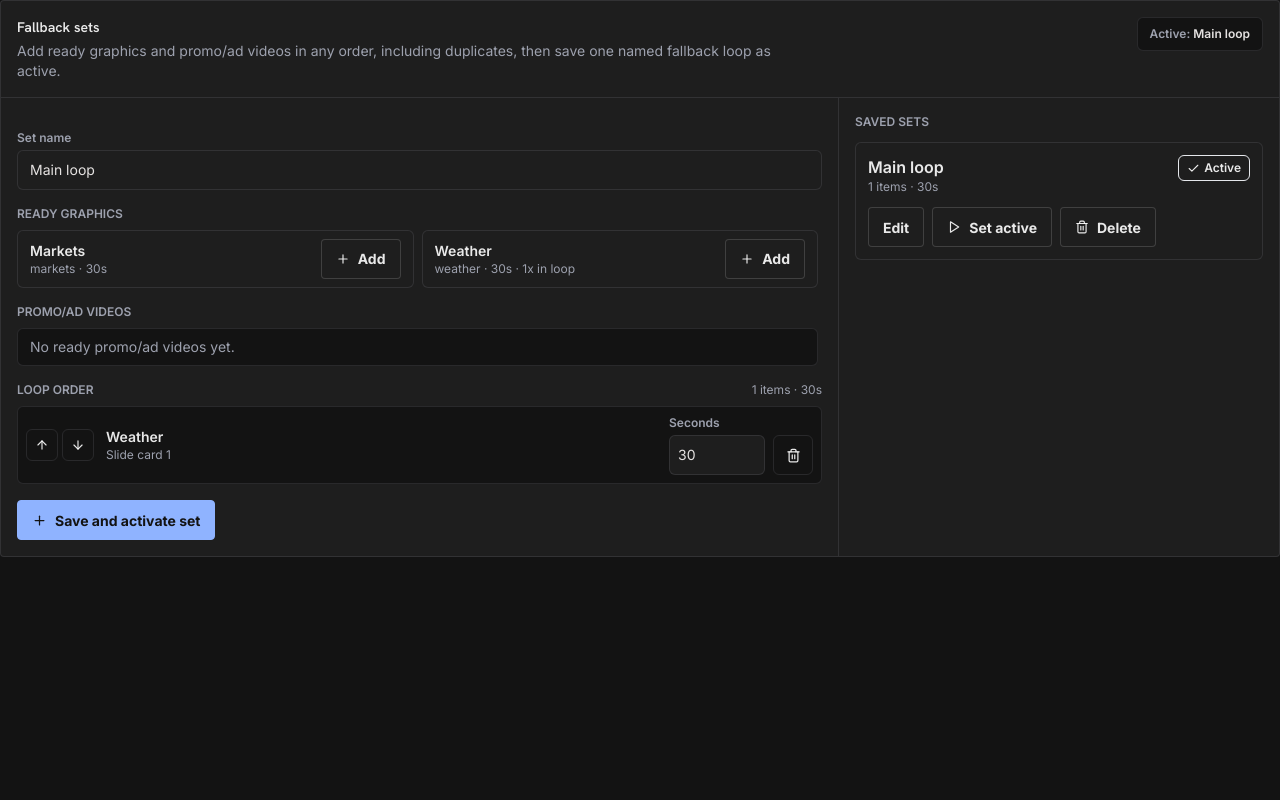
Test case: FallbackSetsPanel › allows adding the same slide multiple times to one loop
Click the button with aria-label "Add Markets to fallback loop" at [361, 259], box [321, 239, 400, 279]
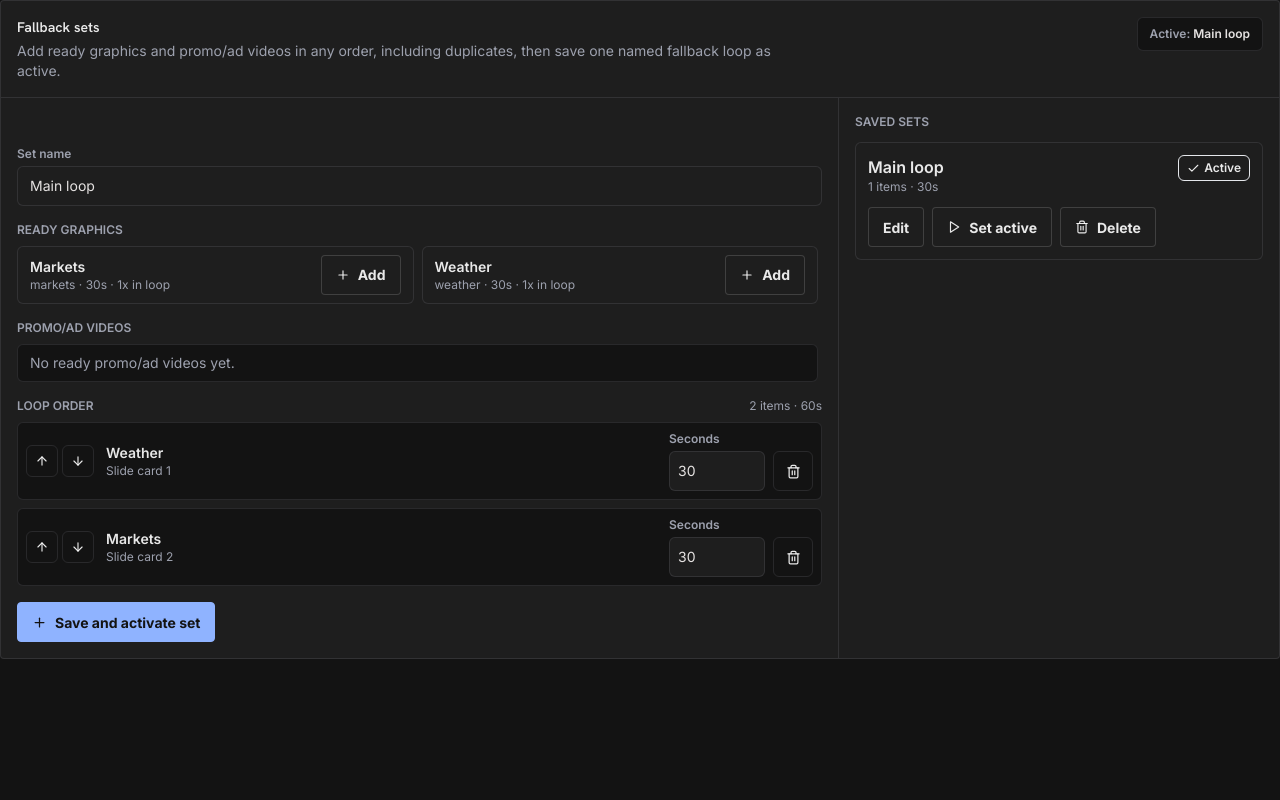
Click the button with aria-label "Add Markets to fallback loop" at [361, 275], box [321, 255, 400, 295]
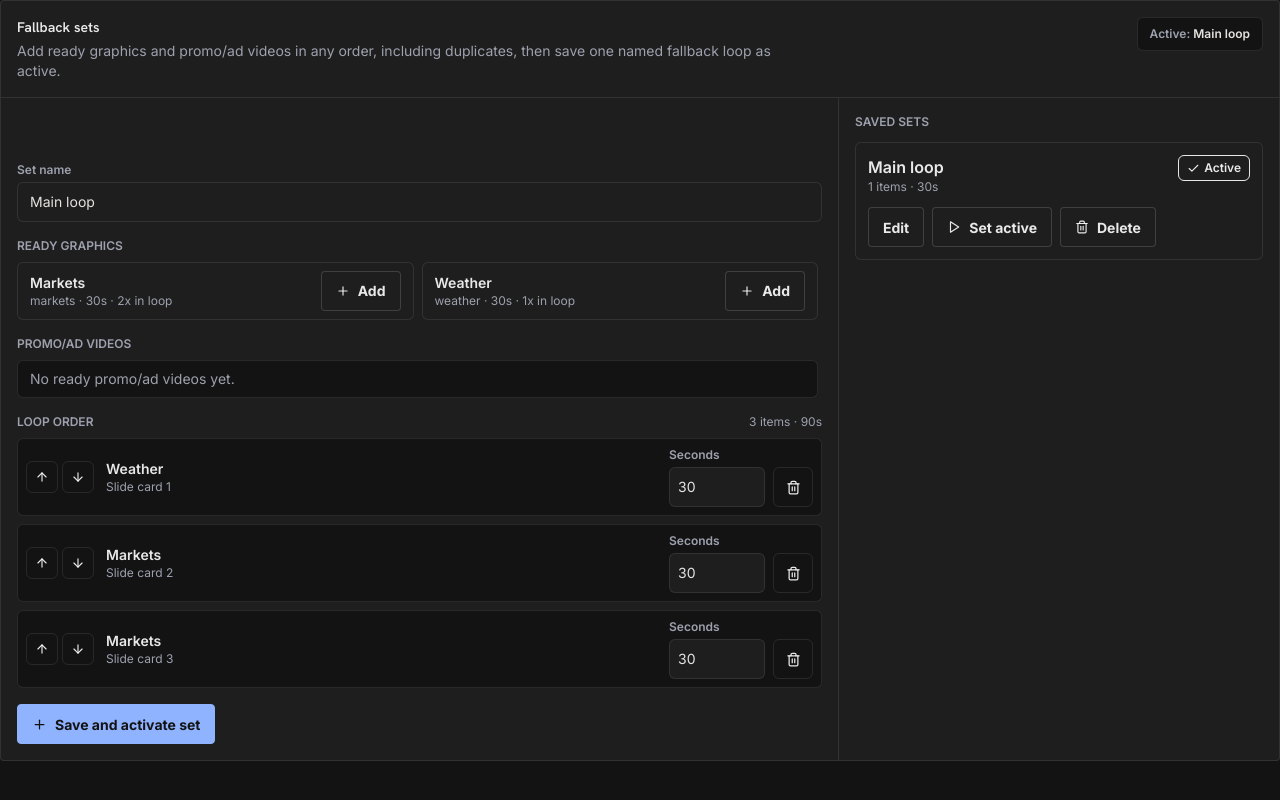
Expected: the text "markets · 30s · 2x in loop" is shown, [30, 293, 172, 308]
